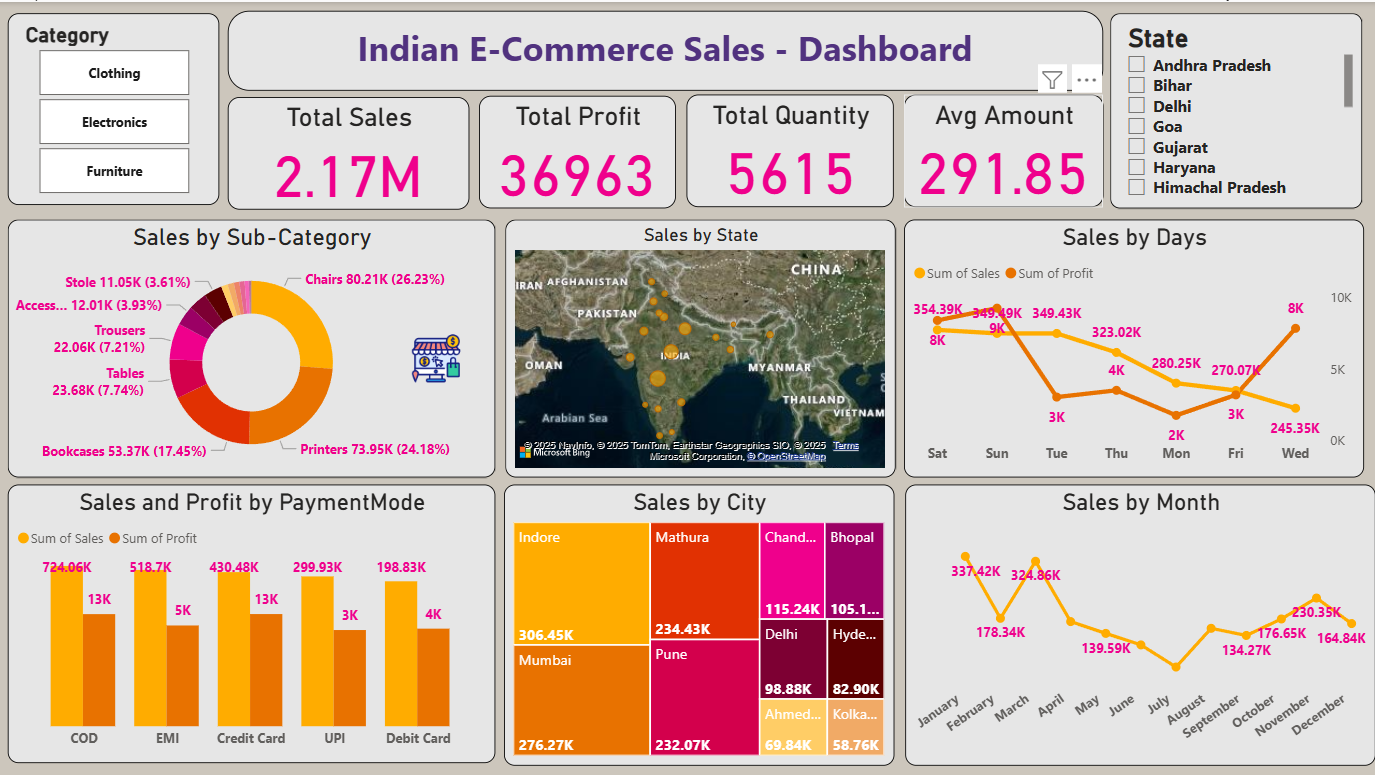

The dashboard page shown, as its layout file describes it:
{"tool":"powerbi","page":{"name":"Page 1","canvas":[1280,720],"ordinal":0},"visuals":[{"type":"textbox","box":[212.9,8.6,814.3,74.3],"z":0},{"type":"card","title":"Total Sales","fields":{"Values":["Sum(Details.Sales)"]},"box":[213.3,88.2,224.4,105],"z":1000},{"type":"card","title":"Total Profit","fields":{"Values":["Sum(Details.Profit)"]},"box":[446.7,87.1,183.1,105],"z":2000},{"type":"card","title":"Total Quantity","fields":{"Values":["Sum(Details.Quantity)"]},"box":[639.8,86,193.2,105],"z":3000},{"type":"card","title":"Avg Amount","fields":{"Values":["Avg(Details.Amount)"]},"box":[841.9,86,185.4,105],"z":4000},{"type":"map","title":"Sales by State","fields":{"Size":["Sum(Details.Sales)"],"Category":["Orders.State"]},"box":[471.2,202.1,362.9,240.1],"z":5000},{"type":"slicer","title":"States","fields":{"Values":["Orders.State"]},"box":[1034.3,10,234.3,181.4],"z":6000},{"type":"donutChart","title":"Sales by Sub-Category","fields":{"Y":["Sum(Details.Sales)"],"Category":["Details.Sub-Category"]},"box":[7.8,202.1,453.4,240.1],"z":8000},{"type":"stackedAreaChart","title":"Sales by Month","fields":{"Category":["Orders.Order Date.Variation.Date Hierarchy.Month"],"Y":["Sum(Details.Sales)"]},"box":[842.5,448.8,437.5,261.2],"z":9000},{"type":"lineChart","title":"Sales by Days","fields":{"Category":["Orders.Column"],"Y":["Sum(Details.Sales)"],"Y2":["Sum(Details.Profit)"]},"box":[841.9,202.1,427.7,240.1],"z":10000},{"type":"treemap","title":"Sales by City","fields":{"Group":["Orders.City"],"Values":["Sum(Details.Sales)"]},"box":[470.1,448.9,362.9,261.3],"z":11000},{"type":"slicer","title":"Category","fields":{"Values":["Details.Category"]},"box":[7.8,10,196.5,178.7],"z":12000},{"type":"image","box":[375,303.8,63.8,56.2],"z":13000},{"type":"clusteredColumnChart","title":" Sales and Profit by PaymentMode","fields":{"Category":["Details.PaymentMode"],"Y":["Sum(Details.Sales)","Sum(Details.Profit)"]},"box":[7.8,448.9,453.4,259.1],"z":14001}]}

Visuals, with their boxes in screenshot pixels (x1, y1, x2, y2), scaled from the page's 1280x720 canvas onto the 1375x775 screenshot:
textbox: (left=229, top=9, right=1103, bottom=89)
"Total Sales" card: (left=229, top=95, right=470, bottom=208)
"Total Profit" card: (left=480, top=94, right=677, bottom=207)
"Total Quantity" card: (left=687, top=93, right=895, bottom=206)
"Avg Amount" card: (left=904, top=93, right=1104, bottom=206)
"Sales by State" map: (left=506, top=218, right=896, bottom=476)
"States" slicer: (left=1111, top=11, right=1363, bottom=206)
"Sales by Sub-Category" donutChart: (left=8, top=218, right=495, bottom=476)
"Sales by Month" stackedAreaChart: (left=905, top=483, right=1374, bottom=764)
"Sales by Days" lineChart: (left=904, top=218, right=1364, bottom=476)
"Sales by City" treemap: (left=505, top=483, right=895, bottom=764)
"Category" slicer: (left=8, top=11, right=219, bottom=203)
image: (left=403, top=327, right=471, bottom=388)
" Sales and Profit by PaymentMode" clusteredColumnChart: (left=8, top=483, right=495, bottom=762)
